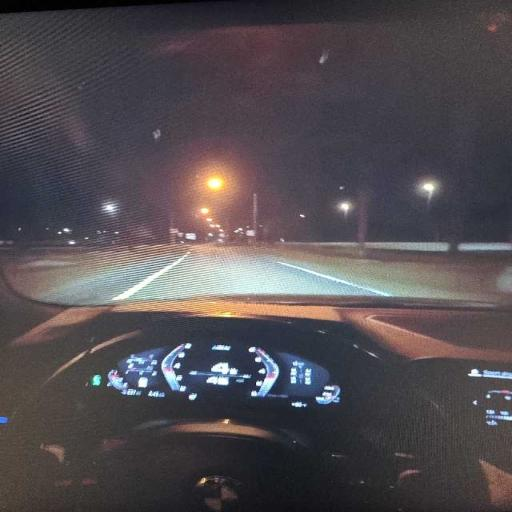car: (0, 0, 511, 511), (0, 287, 511, 510)
lane: (13, 245, 489, 304), (129, 246, 376, 300), (8, 249, 184, 304), (277, 262, 391, 296), (112, 253, 189, 300)
